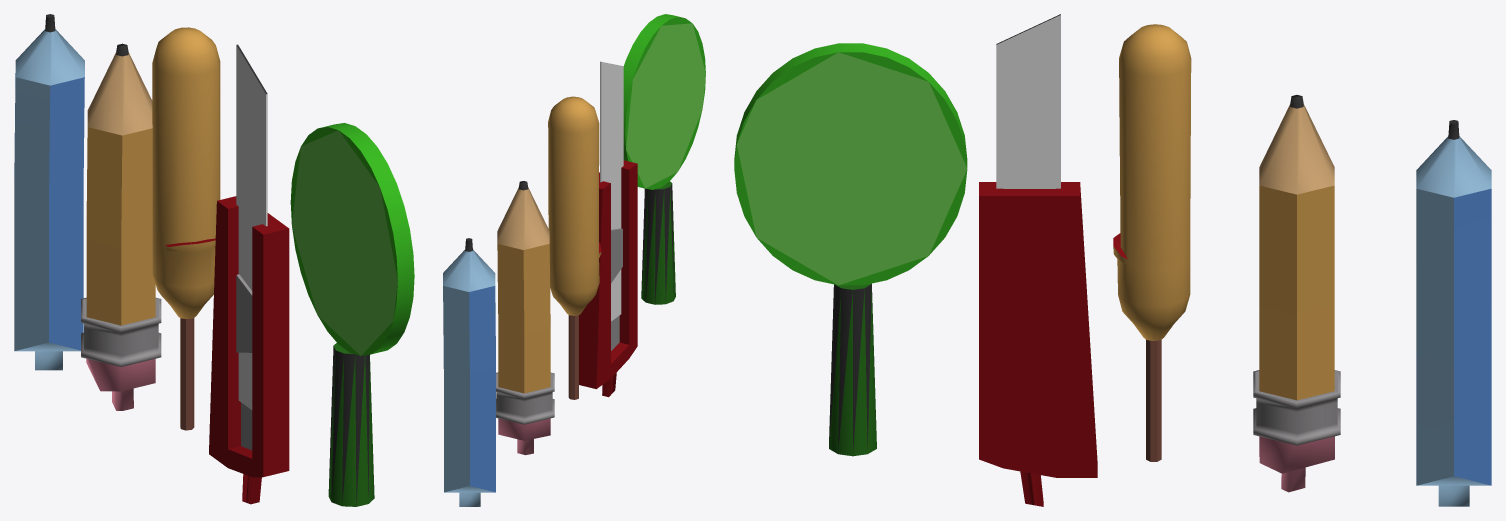
3 renders of one model, left to right at view 1: azimuth 30°, elevation 25°; view 2: azimuth 150°, elevation 25°; view 3: azimuth 270°, elevation 25°, orthographic. The views are drawn at different scales.
Visible parts, largest first — view 1: box cutter, pencil, pen, Cylinder002, corndog, Cylinder001; view 2: pencil, pen, box cutter, Cylinder002, corndog, Cylinder001; view 3: Cylinder002, box cutter, pencil, pen, corndog, Cylinder001.
Part boxes in pixels (x1=…): box cutter: x1=209, y1=44, x2=289, y2=504; pencil: x1=81, y1=43, x2=161, y2=410; pen: x1=14, y1=14, x2=84, y2=370; Cylinder002: x1=290, y1=123, x2=414, y2=355; corndog: x1=152, y1=27, x2=220, y2=430; Cylinder001: x1=328, y1=343, x2=374, y2=506; pencil: x1=496, y1=181, x2=554, y2=455; pen: x1=443, y1=238, x2=495, y2=506; box cutter: x1=579, y1=61, x2=637, y2=397; Cylinder002: x1=623, y1=14, x2=705, y2=189; corndog: x1=548, y1=96, x2=601, y2=399; Cylinder001: x1=641, y1=181, x2=675, y2=304; Cylinder002: x1=734, y1=43, x2=967, y2=285; box cutter: x1=979, y1=14, x2=1097, y2=506; pencil: x1=1253, y1=95, x2=1340, y2=492; pen: x1=1416, y1=120, x2=1491, y2=506; corndog: x1=1113, y1=24, x2=1191, y2=461; Cylinder001: x1=829, y1=283, x2=876, y2=456.
Size of the model in its own units: 75.41 by 377 by 526.
